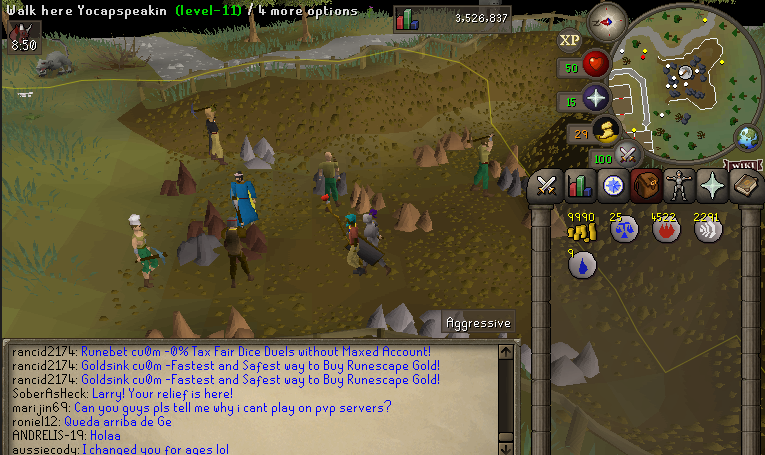depleted: (170, 235, 226, 271), (307, 166, 353, 203), (494, 164, 537, 201)
iron: (232, 223, 275, 270), (184, 203, 234, 243), (158, 159, 201, 203)
